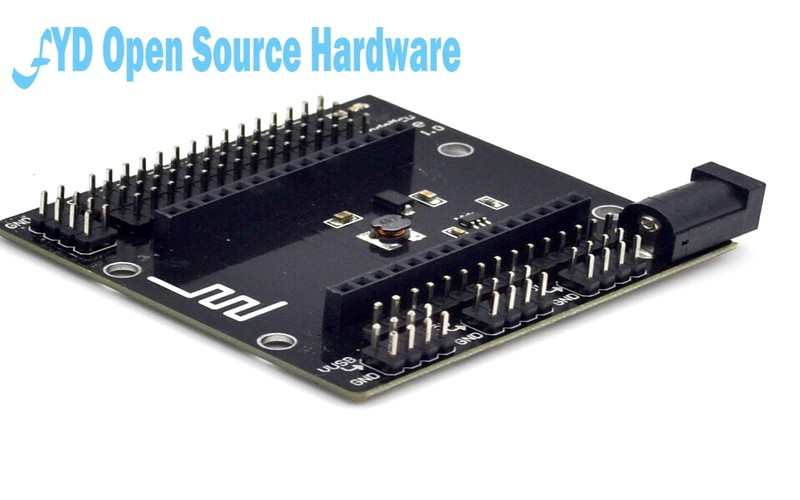IoT Sensor: (2, 83, 774, 399)
